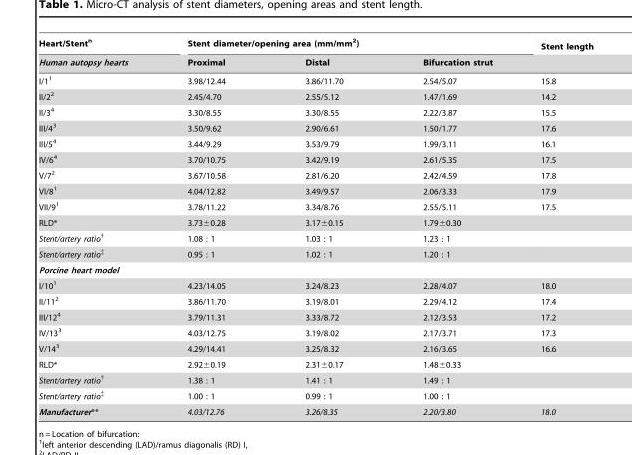table: (37, 37, 592, 416)
table column: (382, 37, 516, 416), (37, 37, 157, 416), (264, 37, 382, 416), (157, 37, 264, 416), (516, 37, 592, 416)
table column header: (37, 37, 592, 70)
table projected row header: (37, 262, 592, 276)
table row: (37, 70, 592, 88), (37, 37, 592, 54), (37, 245, 592, 262), (37, 339, 592, 356), (37, 386, 592, 403), (37, 54, 592, 70), (37, 103, 592, 119), (37, 119, 592, 135), (37, 135, 592, 151), (37, 166, 592, 182), (37, 182, 592, 198), (37, 198, 592, 214), (37, 229, 592, 245), (37, 276, 592, 292), (37, 292, 592, 308), (37, 308, 592, 324), (37, 88, 592, 103), (37, 151, 592, 166), (37, 214, 592, 229), (37, 324, 592, 339), (37, 356, 592, 371), (37, 371, 592, 386), (37, 262, 592, 276), (37, 403, 592, 416)
table spanning cell: (157, 37, 516, 54), (37, 37, 157, 70), (516, 37, 592, 70)
